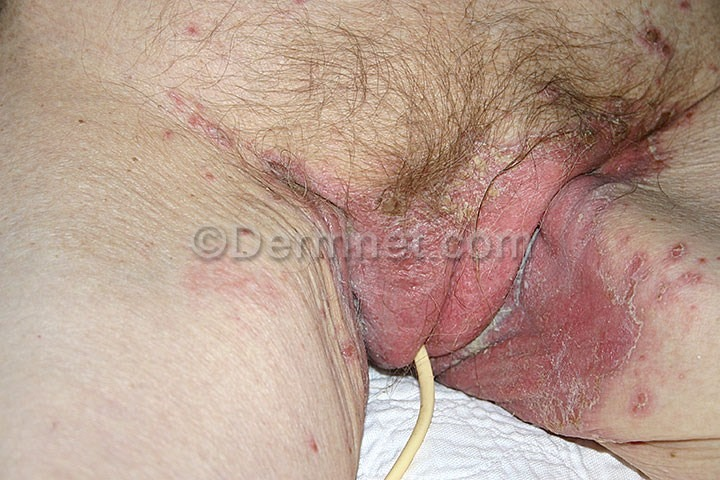Psoriasis: (345, 90, 696, 400)
